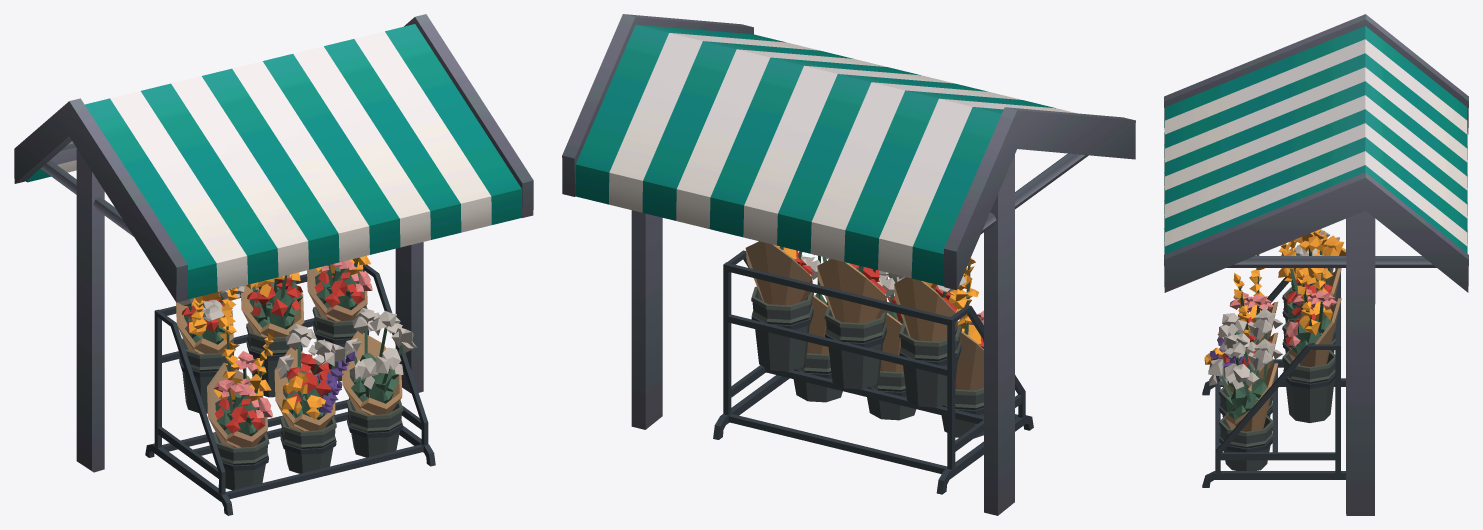
File: Flower Cart.fbx
3 renders of one model, left to right at view 1: azimuth 30°, elevation 25°; view 2: azimuth 150°, elevation 25°; view 3: azimuth 270°, elevation 25°, orthographic. The views are drawn at different scales.
Parts seen in each view (by area): view 1: Flowers_Cart; view 2: Flowers_Cart; view 3: Flowers_Cart.
Boxes of the visible parts, left/top/right/bottom form: Flowers_Cart: left=14, top=14, right=533, bottom=515; Flowers_Cart: left=562, top=14, right=1135, bottom=515; Flowers_Cart: left=1164, top=14, right=1468, bottom=515.
Bounding box in the file's own units: 261 × 257 × 205.
